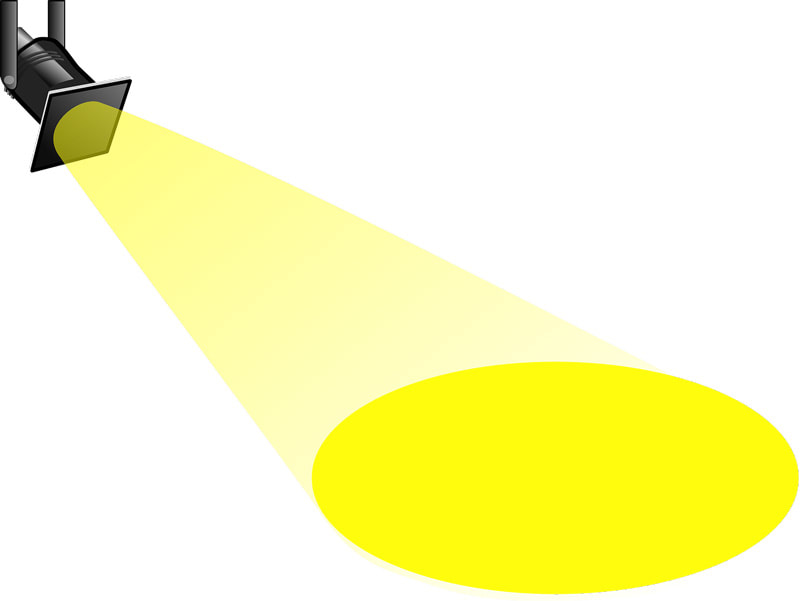Videoprojecteur: (127, 108, 378, 168)
